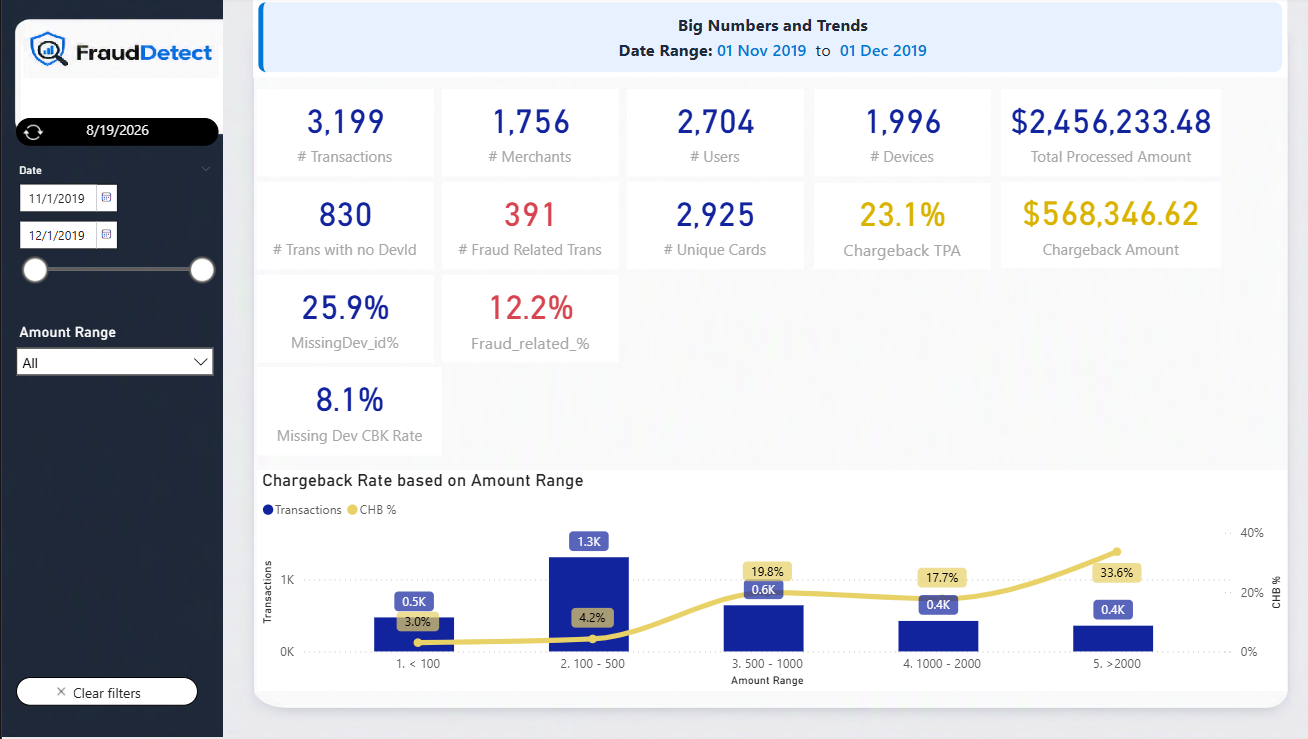

Layout of this report page (visuals, bound fields, positions):
{"tool":"powerbi","page":{"name":"Big Numbers","canvas":[1280,720],"ordinal":0},"visuals":[{"type":"advanceCardE03760C5AB684758B56AA29F9E6C257B","fields":{"mainMeasure":["CountNonNull(casecsv_f.transaction_id)"]},"box":[248,89,172,85],"z":0},{"type":"advanceCardE03760C5AB684758B56AA29F9E6C257B","fields":{"mainMeasure":["CountNonNull(merchants_d.merchant_id)"]},"box":[428,90,172,85],"z":1000},{"type":"advanceCardE03760C5AB684758B56AA29F9E6C257B","fields":{"mainMeasure":["CountNonNull(devices_d.device_id)"]},"box":[789.8,89.5,172.2,85],"z":2000},{"type":"card","fields":{"Values":["Min(Refresh time.Date)"]},"box":[13.6,117.7,197.4,27.2],"z":2000,"group":"g1"},{"type":"group","id":"g1","title":"Group 1","box":[13.6,117.7,197.4,27.2],"z":3000},{"type":"htmlContent443BE3AD55E043BF878BED274D3A6855","fields":{"content":["Measure.Date Range HTML"]},"box":[244.2,0,1005.8,77.7],"z":4000},{"type":"advanceCardE03760C5AB684758B56AA29F9E6C257B","fields":{"mainMeasure":["CountNonNull(casecsv_f.transaction_amount)"]},"box":[248.1,180,172.2,85],"z":5000},{"type":"advanceCardE03760C5AB684758B56AA29F9E6C257B","fields":{"mainMeasure":["CountNonNull(user_d.user_id)"]},"box":[607.9,90,172.2,85],"z":6000},{"type":"advanceCardE03760C5AB684758B56AA29F9E6C257B","fields":{"mainMeasure":["Measure.uniqueCards"]},"box":[607.9,180,172.2,85],"z":7000},{"type":"advanceCardE03760C5AB684758B56AA29F9E6C257B","fields":{"mainMeasure":["Sum(casecsv_f.transaction_amount)"]},"box":[971.7,89.5,214,85],"z":8000},{"type":"advanceCardE03760C5AB684758B56AA29F9E6C257B","fields":{"mainMeasure":["Sum(casecsv_f.transaction_amount)"]},"box":[971.4,180,213.7,84.4],"z":9000},{"type":"advanceCardE03760C5AB684758B56AA29F9E6C257B","fields":{"mainMeasure":["Measure.% Fraud"]},"box":[789.5,180.6,172.4,84.4],"z":10000},{"type":"advanceCardE03760C5AB684758B56AA29F9E6C257B","fields":{"mainMeasure":["CountNonNull(casecsv_f.transaction_id)"]},"box":[428.3,180,172.4,85],"z":11000},{"type":"slicer","fields":{"Values":["casecsv_f.Amount Range"]},"box":[9,318,202,83],"z":12000},{"type":"advanceCardE03760C5AB684758B56AA29F9E6C257B","fields":{"mainMeasure":["Measure.MissingDev_id%"]},"box":[248,270,172,85],"z":13000},{"type":"advanceCardE03760C5AB684758B56AA29F9E6C257B","fields":{"mainMeasure":["Measure.Fraud_related_%"]},"box":[428,270,172,85],"z":14000},{"type":"image","box":[20.4,118.8,19.9,26],"z":15000,"group":"g1"},{"type":"slicer","fields":{"Values":["calendar.Date"]},"box":[9,162,202,122],"z":15000},{"type":"lineClusteredColumnComboChart","title":"Chargeback Rate based on Amount Range","fields":{"Category":["casecsv_f.Amount Range"],"Y":["Measure.Transactions"],"Y2":["Measure.CHB %"]},"box":[247.8,459.7,1001.9,215.5],"z":16000},{"type":"actionButton","box":[13.8,661.1,177,28.4],"z":17000},{"type":"advanceCardE03760C5AB684758B56AA29F9E6C257B","fields":{"mainMeasure":["Measure.Missing Device CBK Rate"]},"box":[247.7,359.6,180.3,86],"z":17001}]}

Visuals, with their boxes on the page's 1280x720 design canvas (x1, y1, x2, y2). These are canvas units, not pixel positions in the 1308x739 screenshot, which may show the page scaled, cropped or inside an application window:
advanceCardE03760C5AB684758B56AA29F9E6C257B - CountNonNull(casecsv_f.transaction_id): box=[248, 89, 420, 174]
advanceCardE03760C5AB684758B56AA29F9E6C257B - CountNonNull(merchants_d.merchant_id): box=[428, 90, 600, 175]
advanceCardE03760C5AB684758B56AA29F9E6C257B - CountNonNull(devices_d.device_id): box=[790, 90, 962, 174]
card - Min(Refresh time.Date): box=[14, 118, 211, 145]
"Group 1" group: box=[14, 118, 211, 145]
htmlContent443BE3AD55E043BF878BED274D3A6855 - Measure.Date Range HTML: box=[244, 0, 1250, 78]
advanceCardE03760C5AB684758B56AA29F9E6C257B - CountNonNull(casecsv_f.transaction_amount): box=[248, 180, 420, 265]
advanceCardE03760C5AB684758B56AA29F9E6C257B - CountNonNull(user_d.user_id): box=[608, 90, 780, 175]
advanceCardE03760C5AB684758B56AA29F9E6C257B - Measure.uniqueCards: box=[608, 180, 780, 265]
advanceCardE03760C5AB684758B56AA29F9E6C257B - Sum(casecsv_f.transaction_amount): box=[972, 90, 1186, 174]
advanceCardE03760C5AB684758B56AA29F9E6C257B - Sum(casecsv_f.transaction_amount): box=[971, 180, 1185, 264]
advanceCardE03760C5AB684758B56AA29F9E6C257B - Measure.% Fraud: box=[790, 181, 962, 265]
advanceCardE03760C5AB684758B56AA29F9E6C257B - CountNonNull(casecsv_f.transaction_id): box=[428, 180, 601, 265]
slicer - casecsv_f.Amount Range: box=[9, 318, 211, 401]
advanceCardE03760C5AB684758B56AA29F9E6C257B - Measure.MissingDev_id%: box=[248, 270, 420, 355]
advanceCardE03760C5AB684758B56AA29F9E6C257B - Measure.Fraud_related_%: box=[428, 270, 600, 355]
image: box=[20, 119, 40, 145]
slicer - calendar.Date: box=[9, 162, 211, 284]
"Chargeback Rate based on Amount Range" lineClusteredColumnComboChart: box=[248, 460, 1250, 675]
actionButton: box=[14, 661, 191, 690]
advanceCardE03760C5AB684758B56AA29F9E6C257B - Measure.Missing Device CBK Rate: box=[248, 360, 428, 446]
